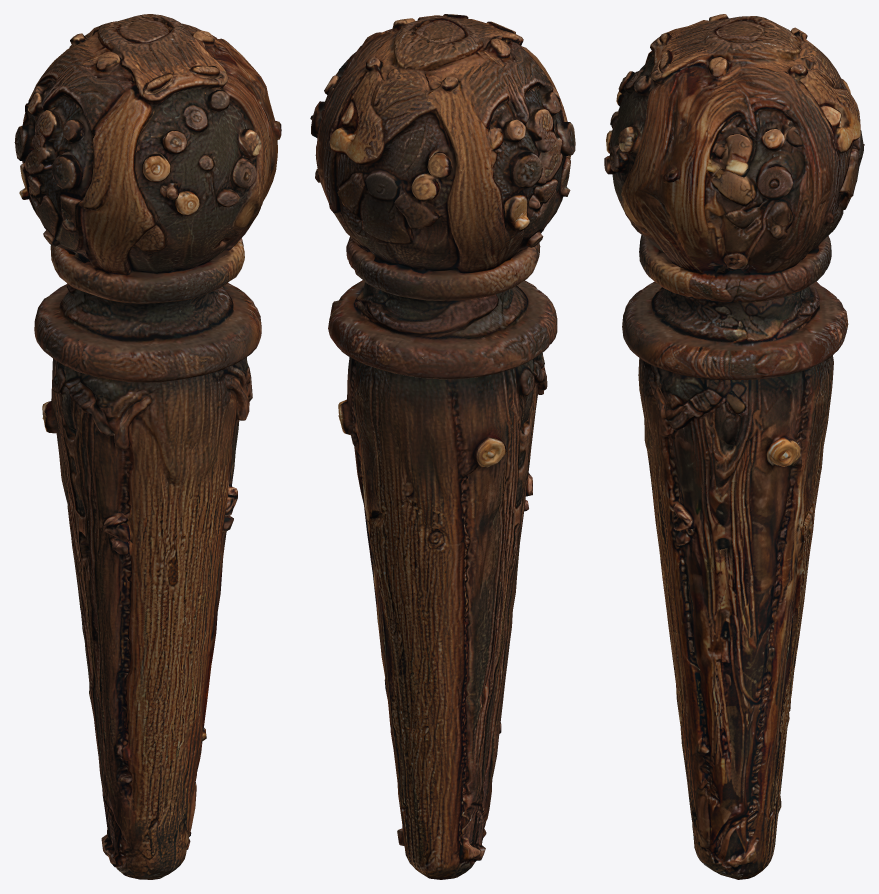
3 renders of one model, left to right at view 1: azimuth 30°, elevation 25°; view 2: azimuth 150°, elevation 25°; view 3: azimuth 270°, elevation 25°, orthographic.
Visible parts, largest first — view 1: tripo_node_f18eb474-e11f-4291-88b2-9d011c0b6f70; view 2: tripo_node_f18eb474-e11f-4291-88b2-9d011c0b6f70; view 3: tripo_node_f18eb474-e11f-4291-88b2-9d011c0b6f70.
Boxes of the visible parts, bbox=[...] form: tripo_node_f18eb474-e11f-4291-88b2-9d011c0b6f70: bbox=[14, 14, 281, 879]; tripo_node_f18eb474-e11f-4291-88b2-9d011c0b6f70: bbox=[310, 14, 575, 879]; tripo_node_f18eb474-e11f-4291-88b2-9d011c0b6f70: bbox=[604, 14, 864, 879].
Size of the model in its own units: 0.2817 by 1 by 0.2795.
Materials: 1 (1 with a texture image).
